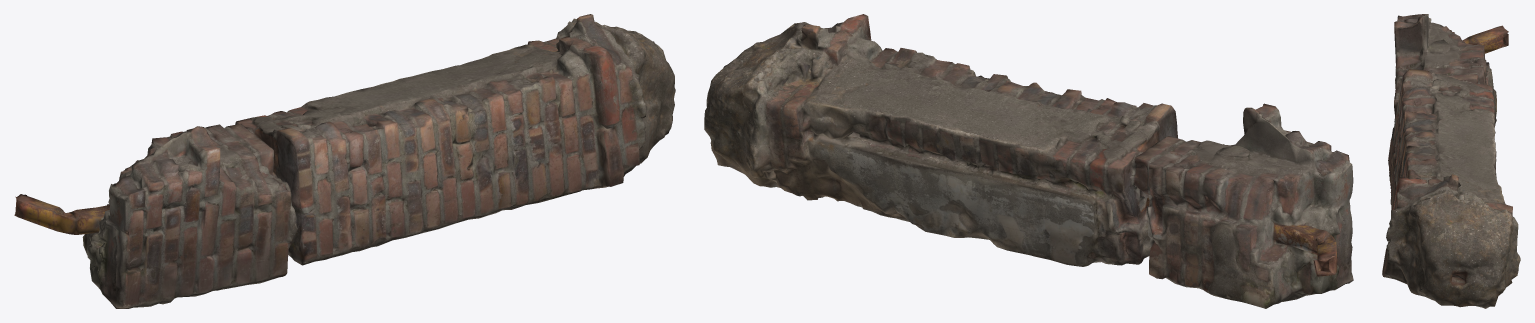
File: PX_Brick_Ruins_21_LOD1.fbx
3 renders of one model, left to right at view 1: azimuth 30°, elevation 25°; view 2: azimuth 150°, elevation 25°; view 3: azimuth 270°, elevation 25°, orthographic. The views are drawn at different scales.
Parts seen in each view (by area): view 1: PX_Brick_Ruins_21_LOD1; view 2: PX_Brick_Ruins_21_LOD1; view 3: PX_Brick_Ruins_21_LOD1.
Boxes of the visible parts, <box> form: PX_Brick_Ruins_21_LOD1: <box>14,14,675,308</box>; PX_Brick_Ruins_21_LOD1: <box>704,14,1353,308</box>; PX_Brick_Ruins_21_LOD1: <box>1382,14,1520,308</box>.
Bounding box in the file's own units: 260 × 63.51 × 63.74.
